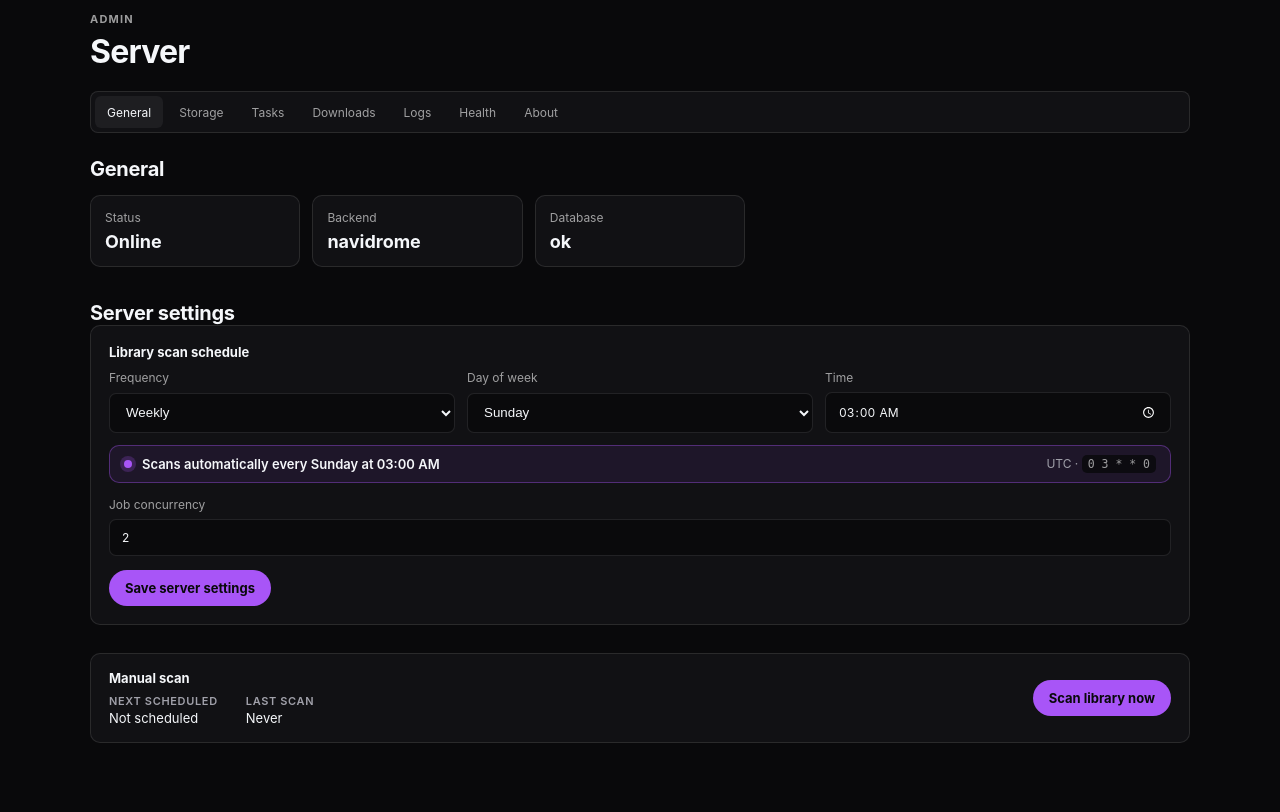
Test: shows a weekly schedule and saves edits as cron
Expected: the dropdown labelled "Frequency" shows "Weekly", top-left (109, 393), bottom-right (455, 433)
Expected: the time field labelled "Time" holds "03:00", top-left (825, 392), bottom-right (1171, 433)
Select "Friday" in the dropdown labelled "Day of week" at (640, 413), box top-left (467, 393), bottom-right (813, 433)
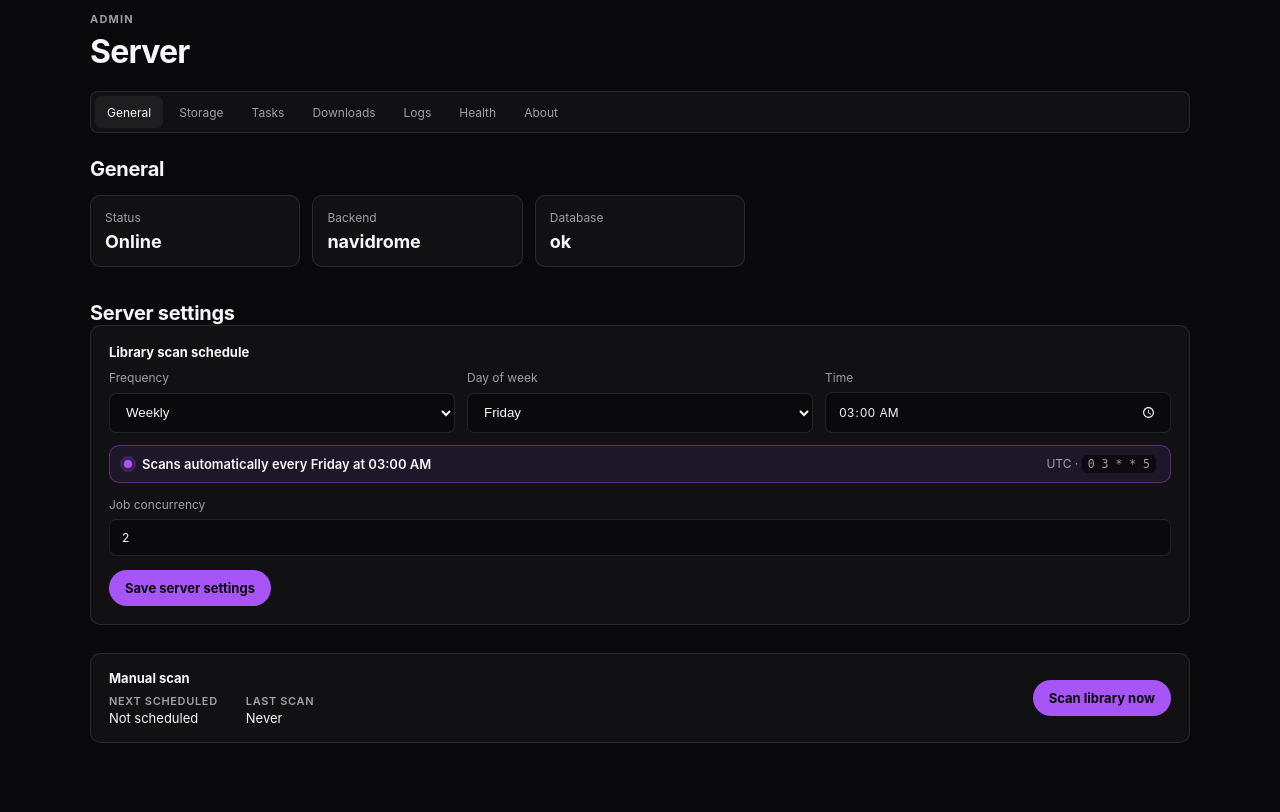
Replace the text in the time field labelled "Time" with "22:30" at (998, 412), box top-left (825, 392), bottom-right (1171, 433)
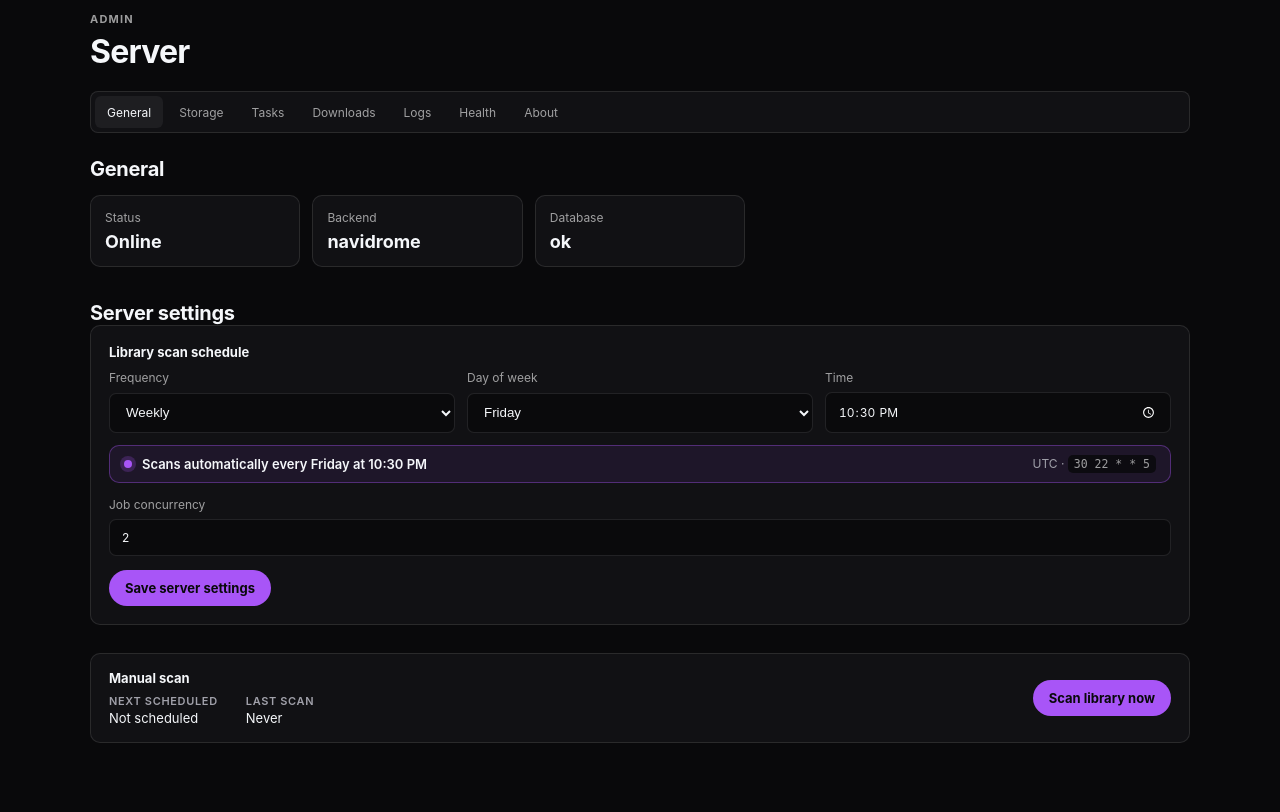
Now the text "Scans automatically every Friday at 10:30 PM" is shown, box top-left (142, 456), bottom-right (427, 472)
Click the button "Save server settings" at (190, 588), box top-left (109, 570), bottom-right (271, 606)
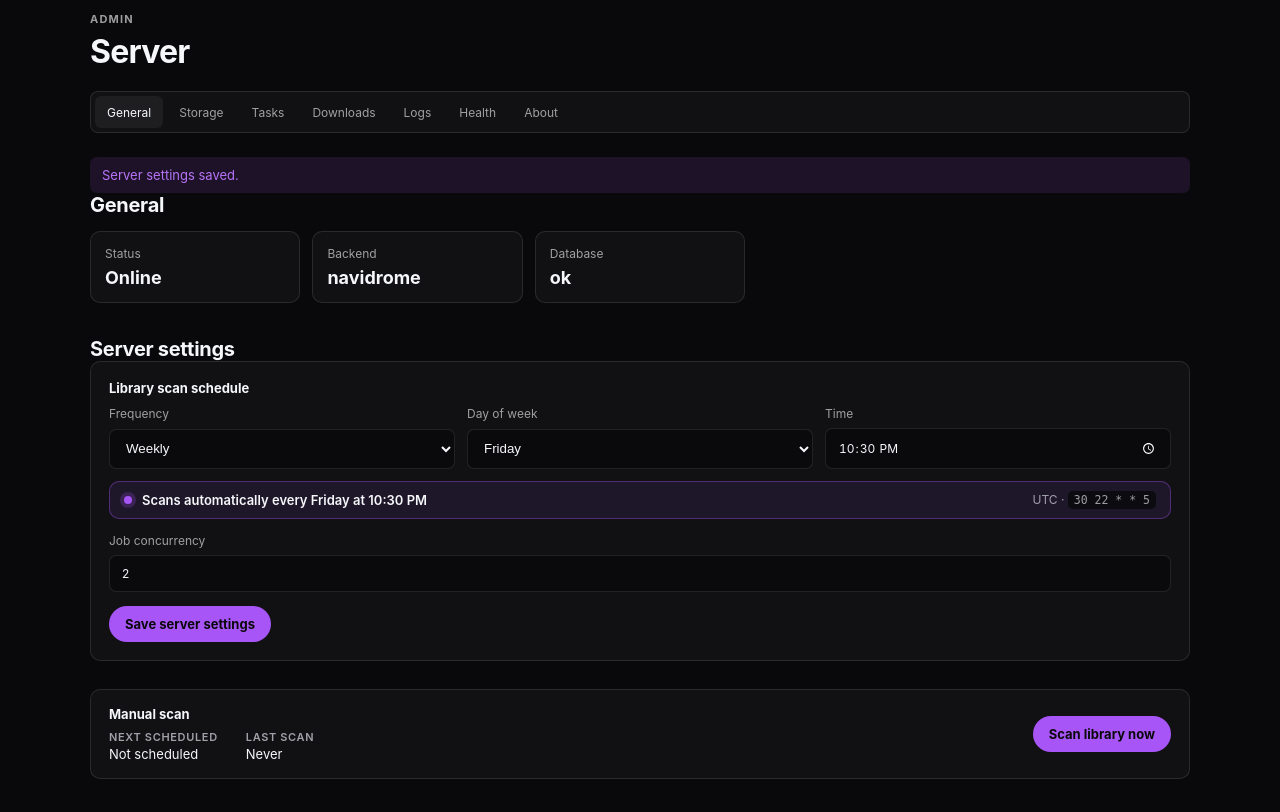
Now the text "Server settings saved." is shown, box top-left (90, 157), bottom-right (1190, 193)
